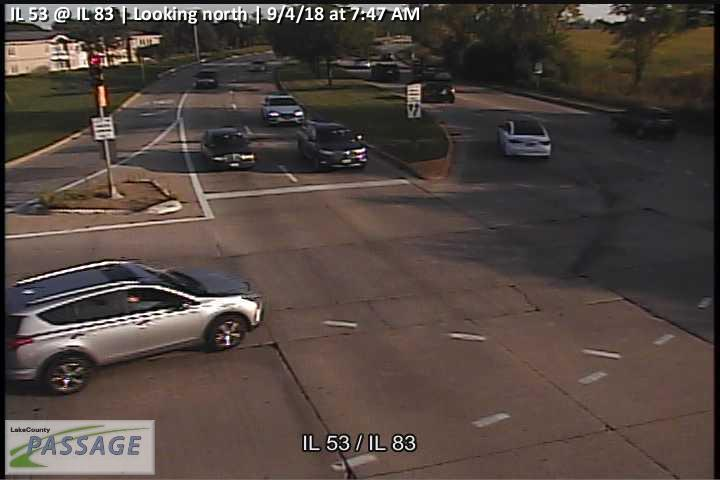SUV: (4, 259, 265, 396), (295, 121, 368, 168), (417, 67, 455, 104)
Sedan: (608, 105, 678, 139), (202, 126, 257, 168), (498, 118, 551, 156), (262, 94, 305, 126), (371, 62, 401, 81), (192, 70, 217, 88)
